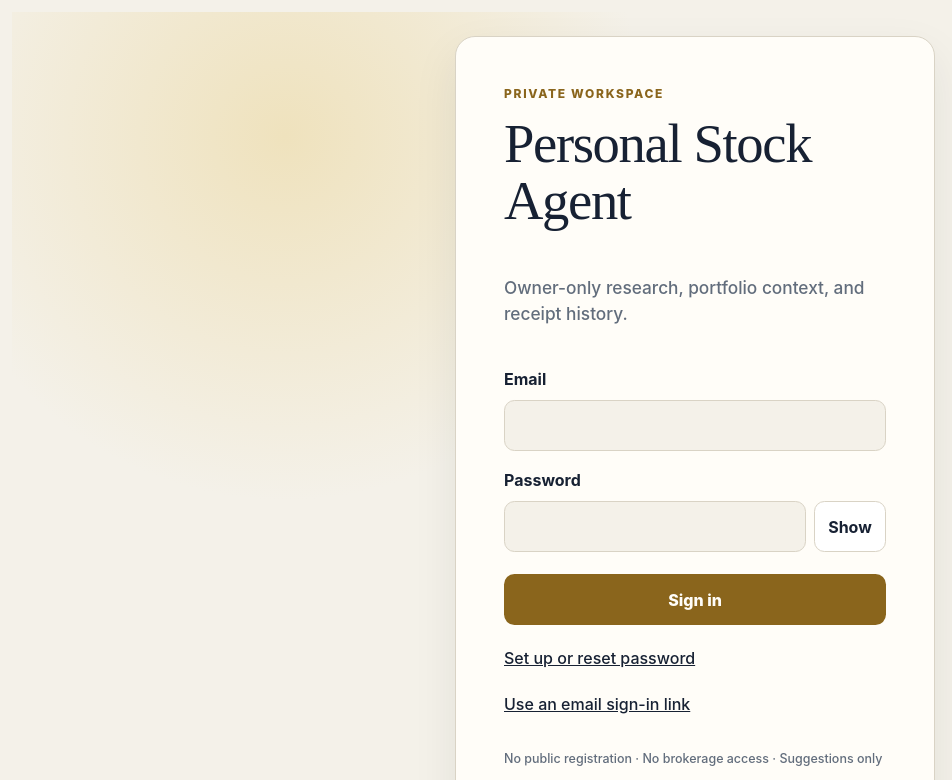
Test: uses email and password as the primary sign-in
Type " owner@example.com " into the field labelled "Email".
click(695, 426); type(" owner@example.com ")  # box [504,400,886,451]
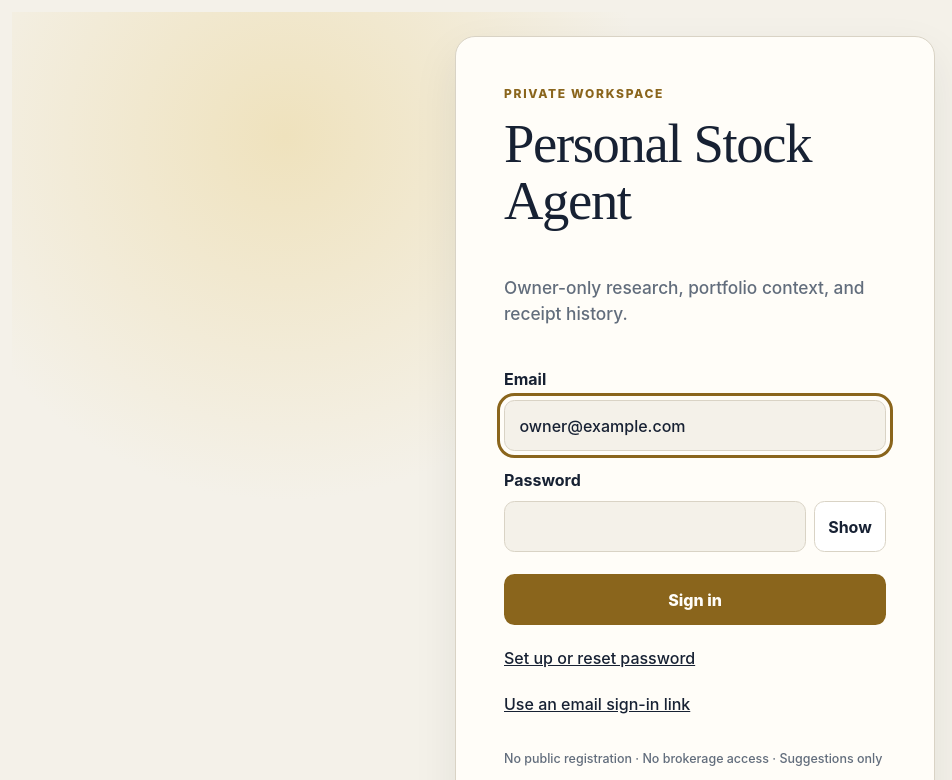
Type "owner-password" into the password field labelled "Password".
click(655, 527); type("owner-password")  # box [504,501,806,552]
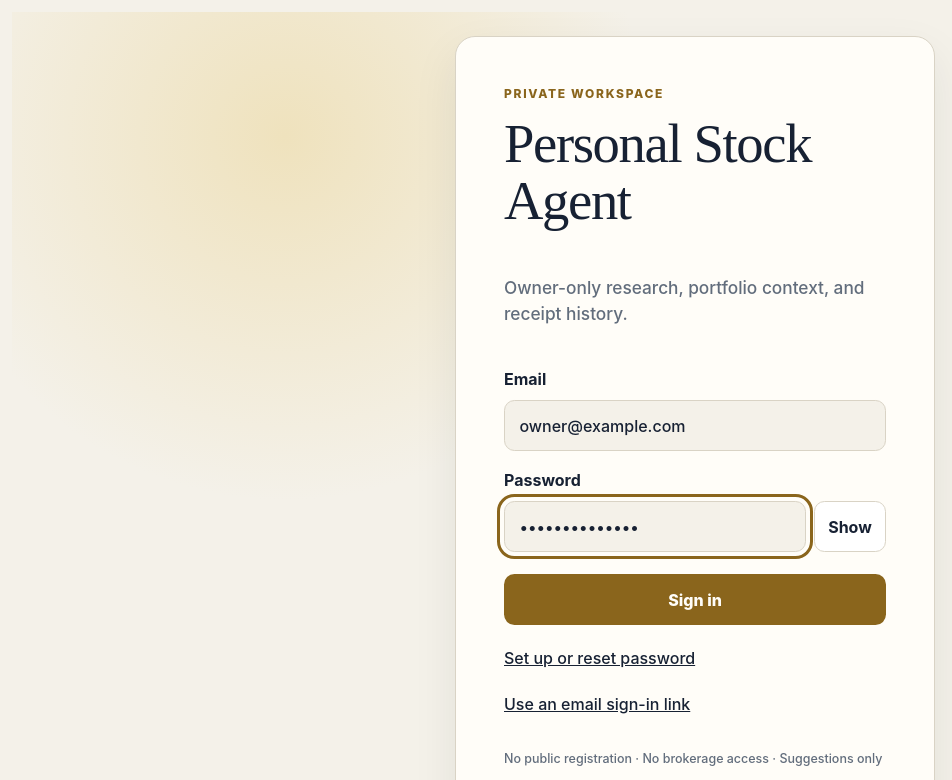
Click the button "Sign in".
click(695, 600)  # box [504,574,886,625]
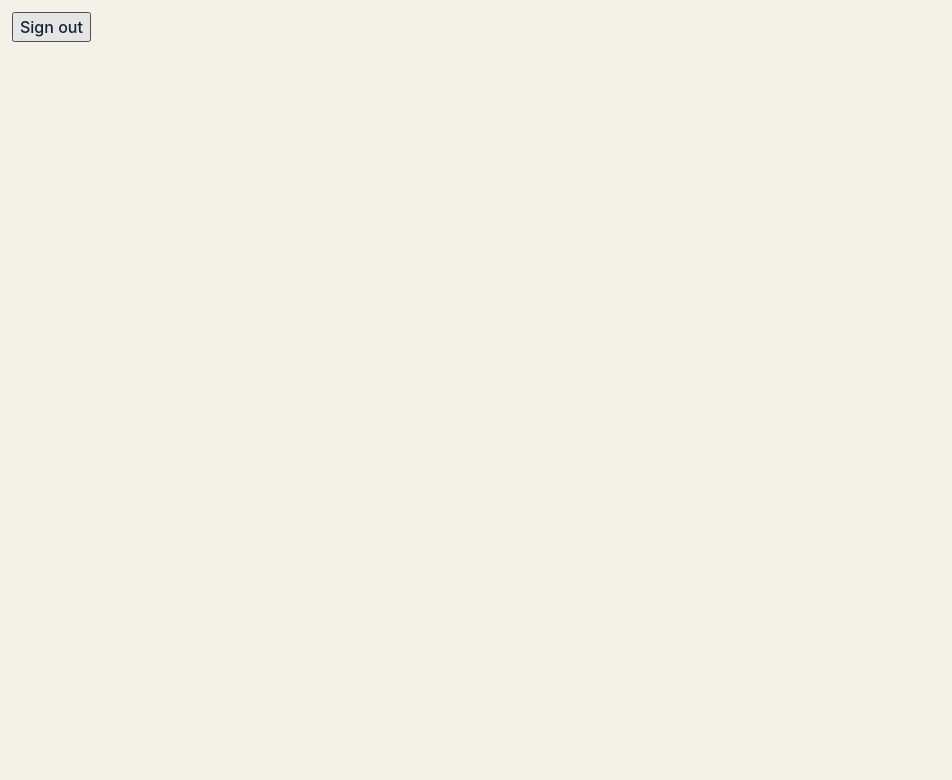
Expected: the button "Sign out" is shown, [12,12,91,42]
